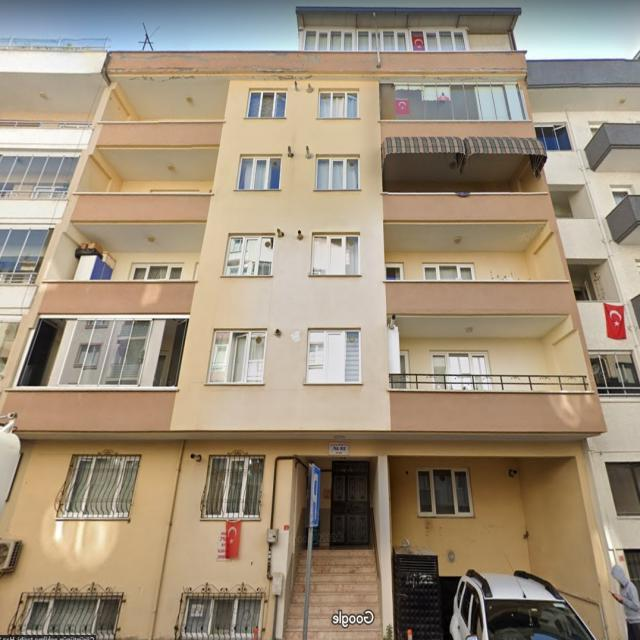Building: (0, 6, 628, 640)
